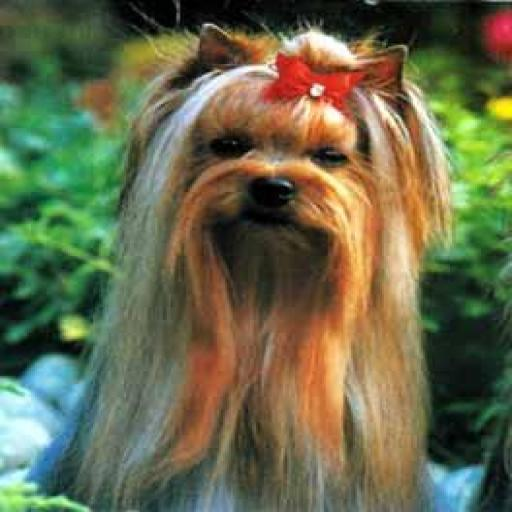dog_face: (183, 23, 410, 262)
